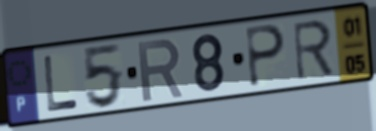5: (79, 41, 125, 110)
8: (190, 32, 228, 94)
L: (41, 53, 80, 114)
P: (244, 23, 288, 90)
R: (135, 36, 186, 104), (290, 17, 337, 83)
